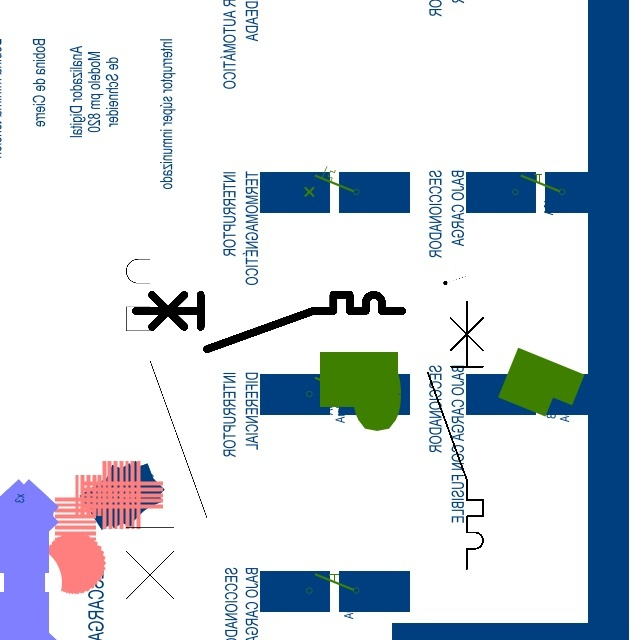interruptor_termomagnetico: (116, 219, 217, 633), (421, 294, 490, 575), (129, 288, 409, 356)
